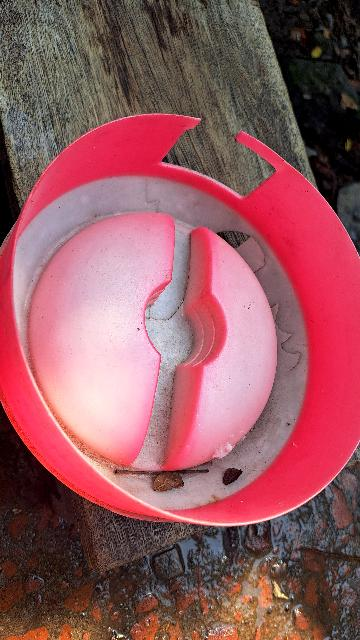hardplastic: (0, 114, 360, 537)
